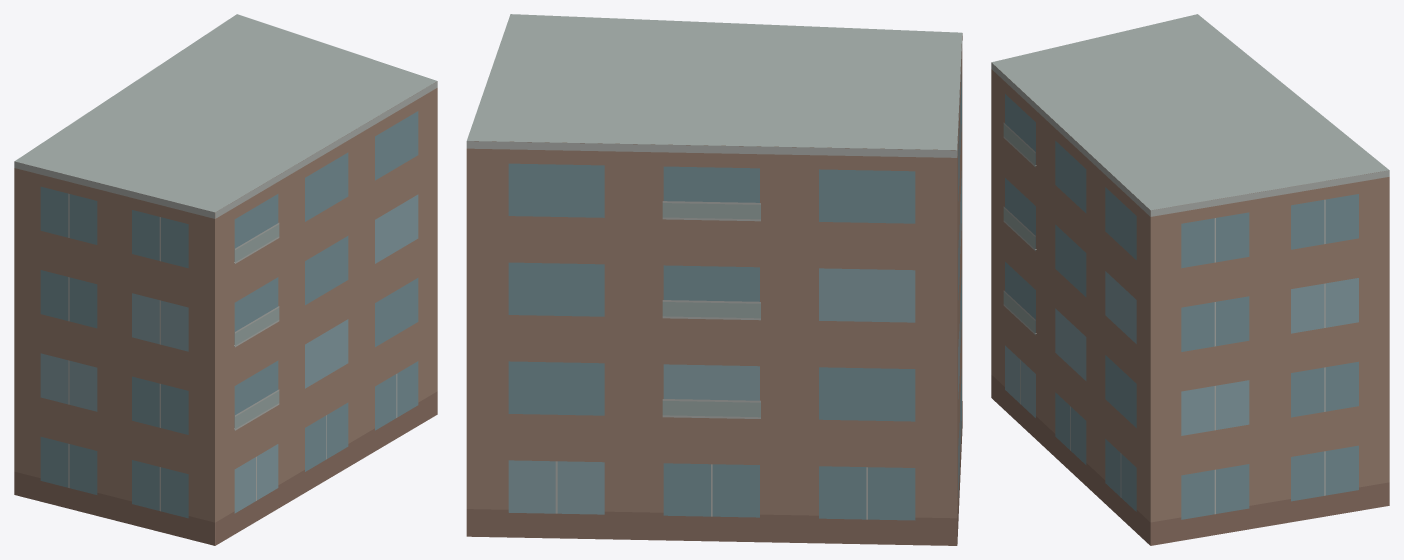
The model's file is survey-upis-32624476.glb.
3 renders of one model, left to right at view 1: azimuth 30°, elevation 25°; view 2: azimuth 150°, elevation 25°; view 3: azimuth 270°, elevation 25°, orthographic. The views are drawn at different scales.
Visible parts, largest first — view 1: survey-upis-32624476.tmp; view 2: survey-upis-32624476.tmp; view 3: survey-upis-32624476.tmp.
Part boxes in pixels (left/top/right/bottom): survey-upis-32624476.tmp: left=14, top=14, right=437, bottom=545; survey-upis-32624476.tmp: left=466, top=14, right=962, bottom=545; survey-upis-32624476.tmp: left=991, top=14, right=1389, bottom=545.
Bounding box in the file's own units: 15.57 × 12.4 × 13.35.
